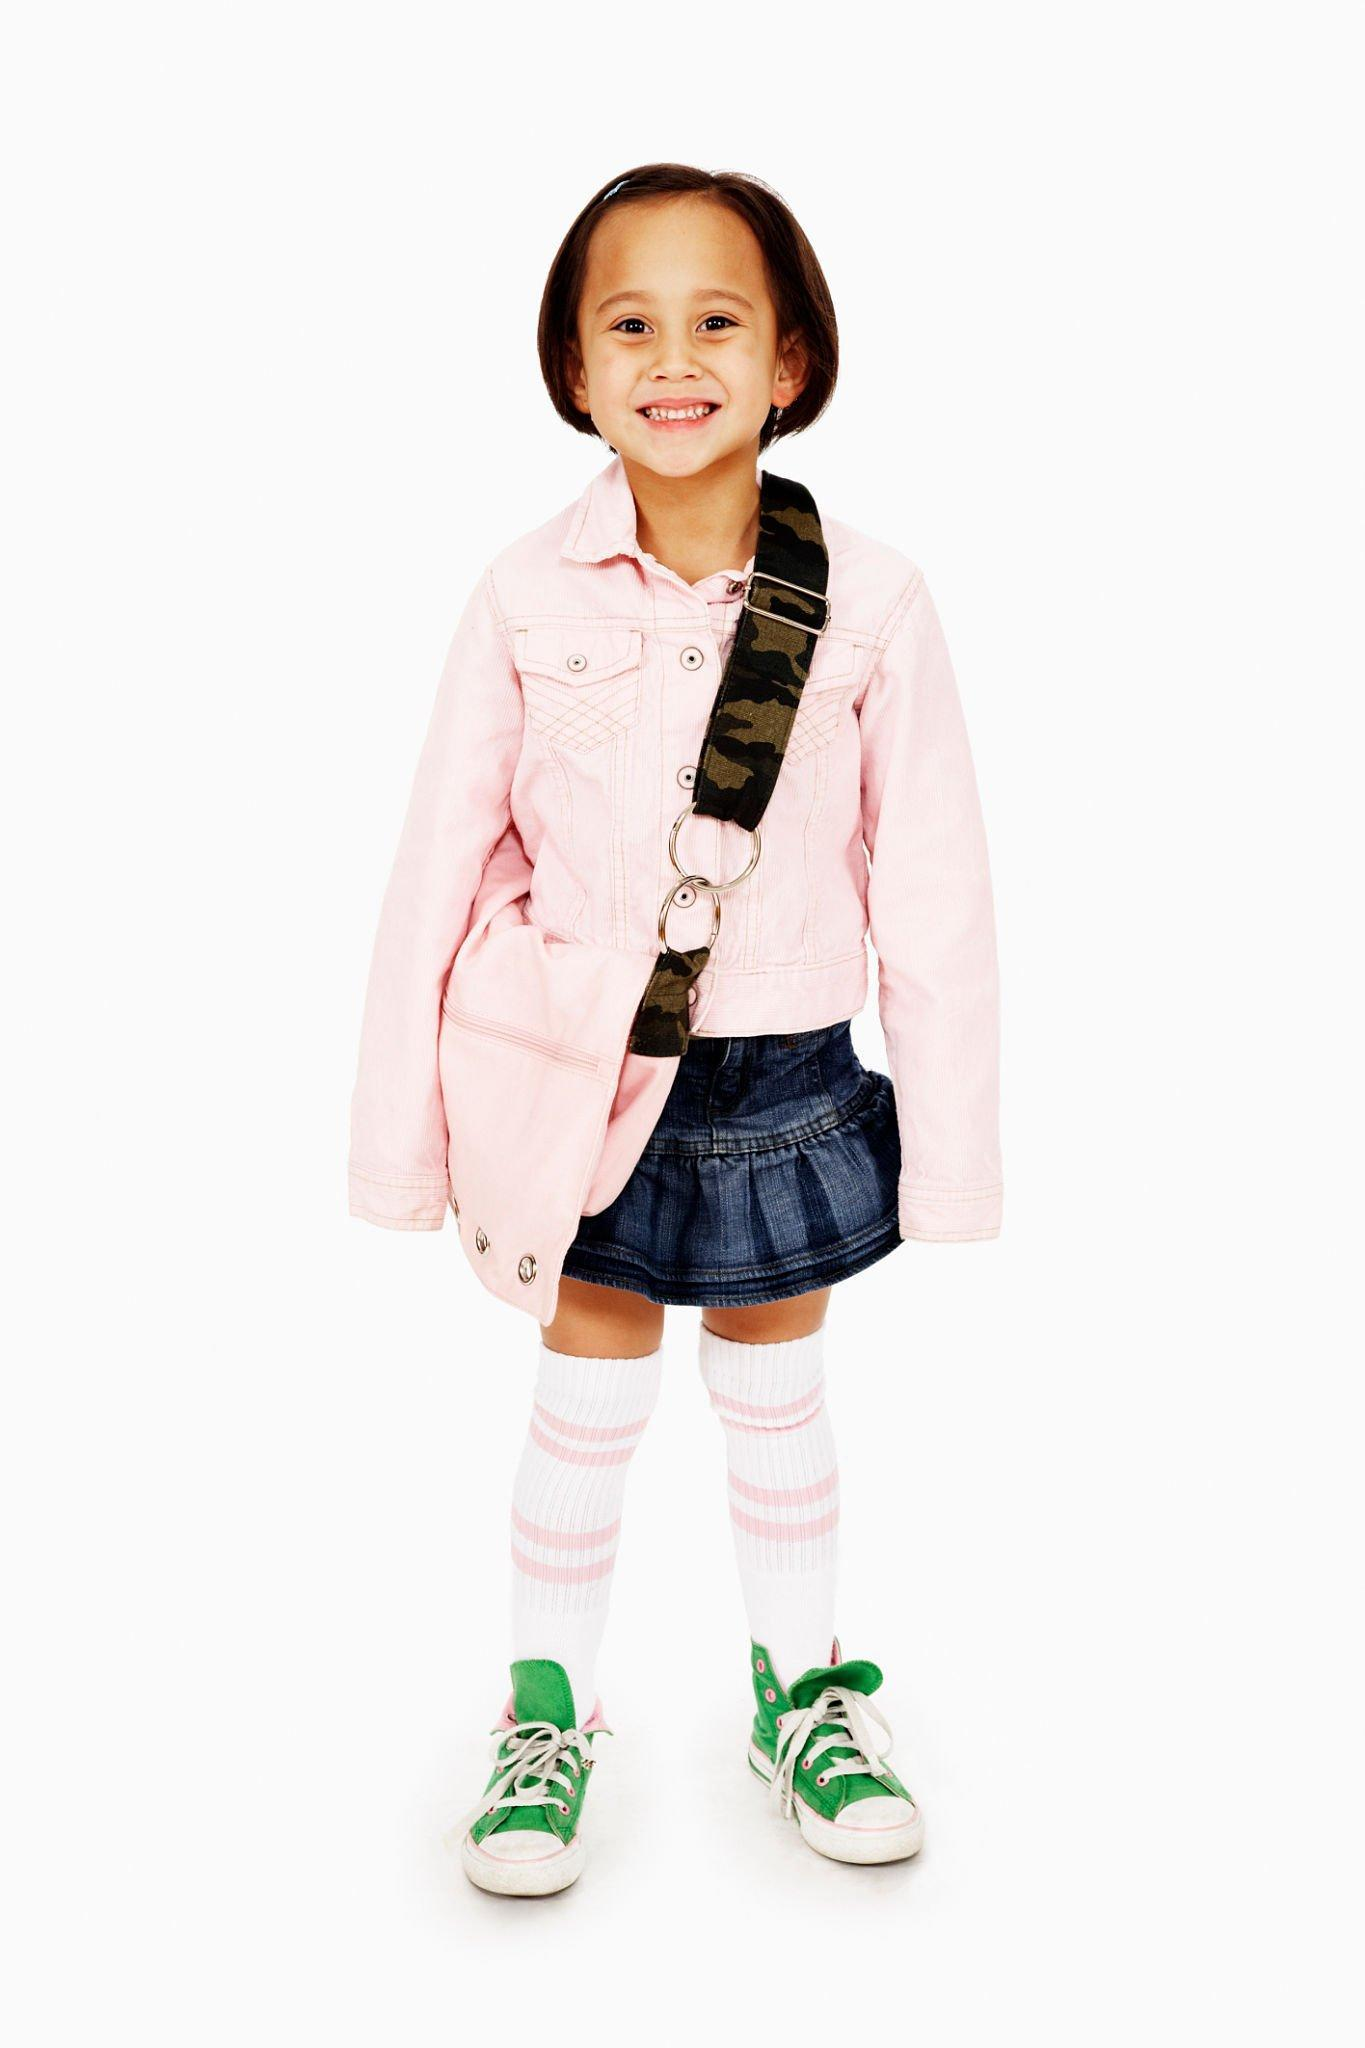Healthy: (533, 151, 823, 499)
